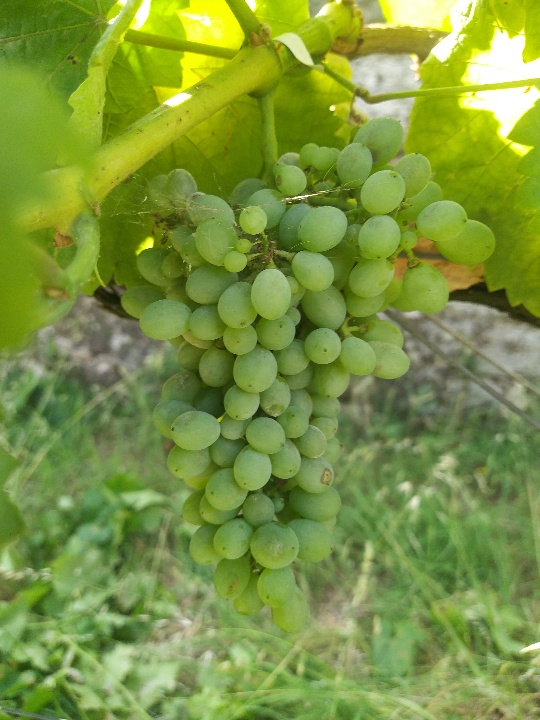grape: (123, 115, 503, 639)
